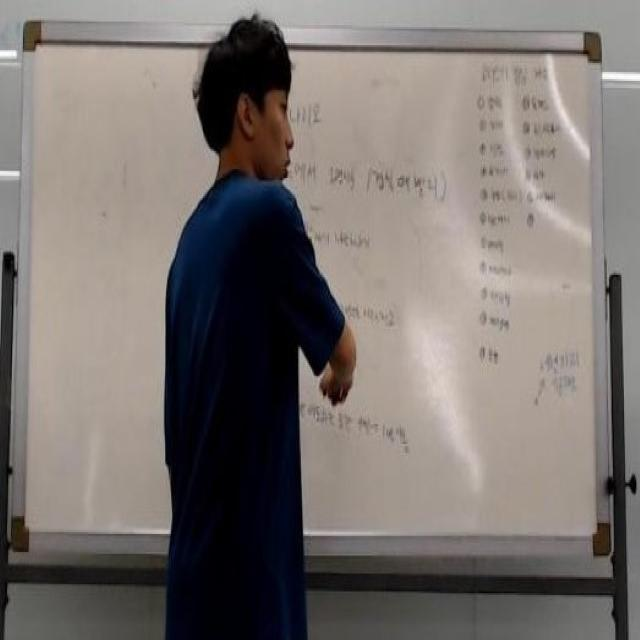Instructor: (184, 21, 314, 563)
White-board: (17, 25, 603, 548)
